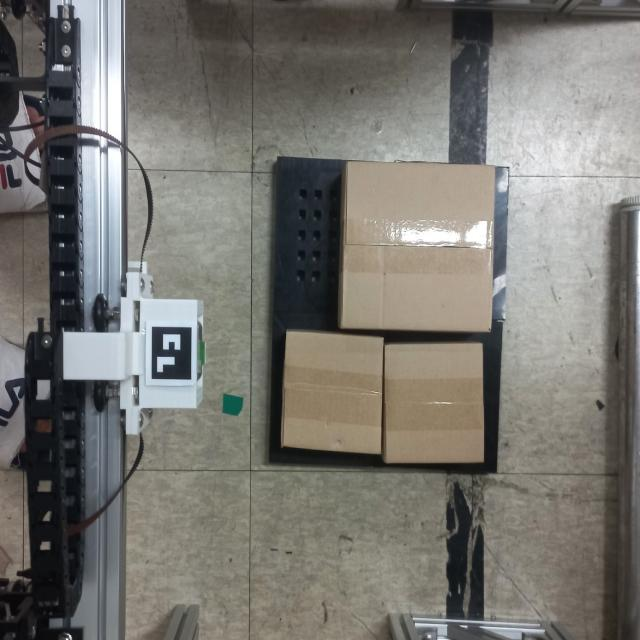box: (337, 159, 498, 337), (277, 325, 387, 460), (381, 338, 487, 469)
